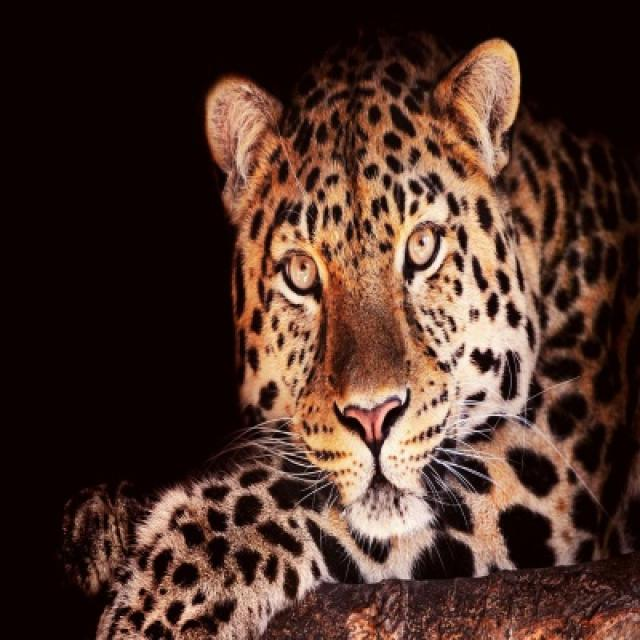Jaguar: (56, 26, 638, 638)
